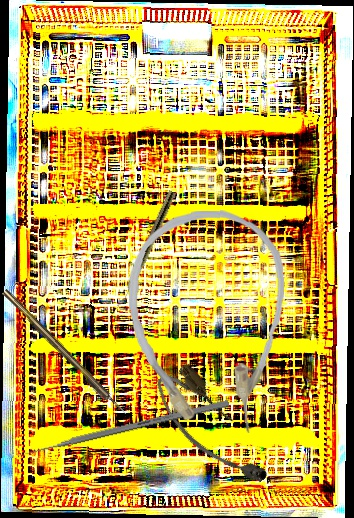Cannula: (126, 208, 289, 437), (145, 357, 277, 502)
Handpiece: (115, 189, 177, 311)
Hook Surgical: (1, 288, 128, 418)
Pusher: (16, 398, 230, 460)
